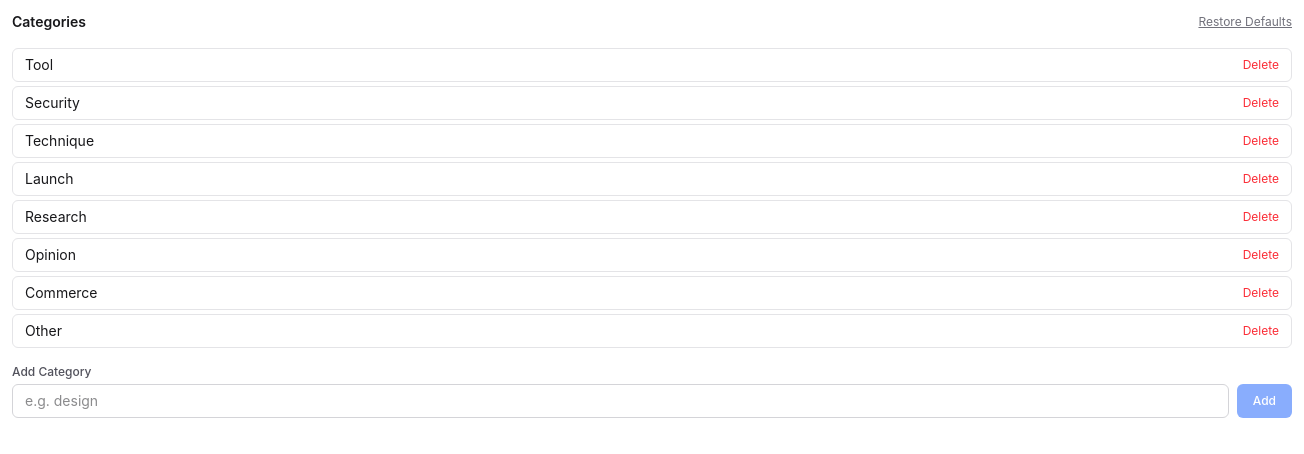
Test: CategoryEditor — adding a category › shows validation error for name with special chars
In the field labelled "Add Category": (620, 401) [12, 384, 1229, 418], type "bad<>"
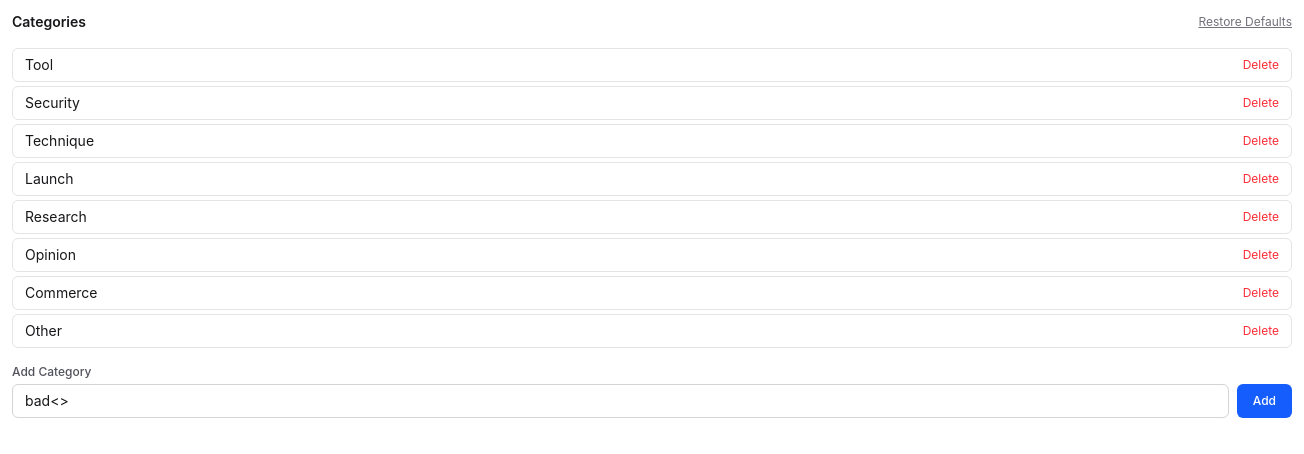
Click the button "Add": (1264, 401) [1237, 384, 1292, 418]
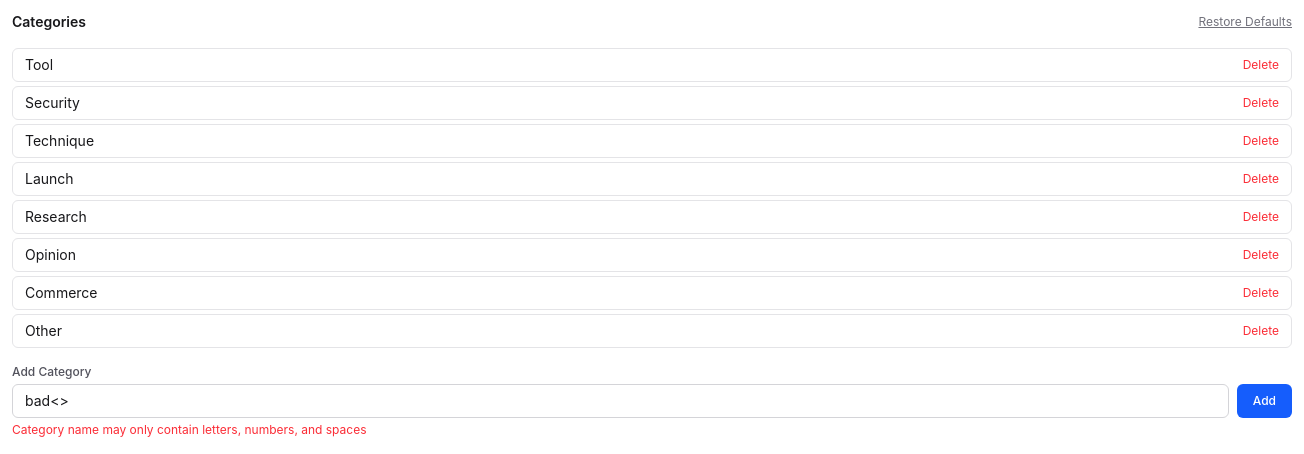
Expected: the message "Category name may only contain letters, numbers, and spaces" is shown, [12, 422, 366, 437]
